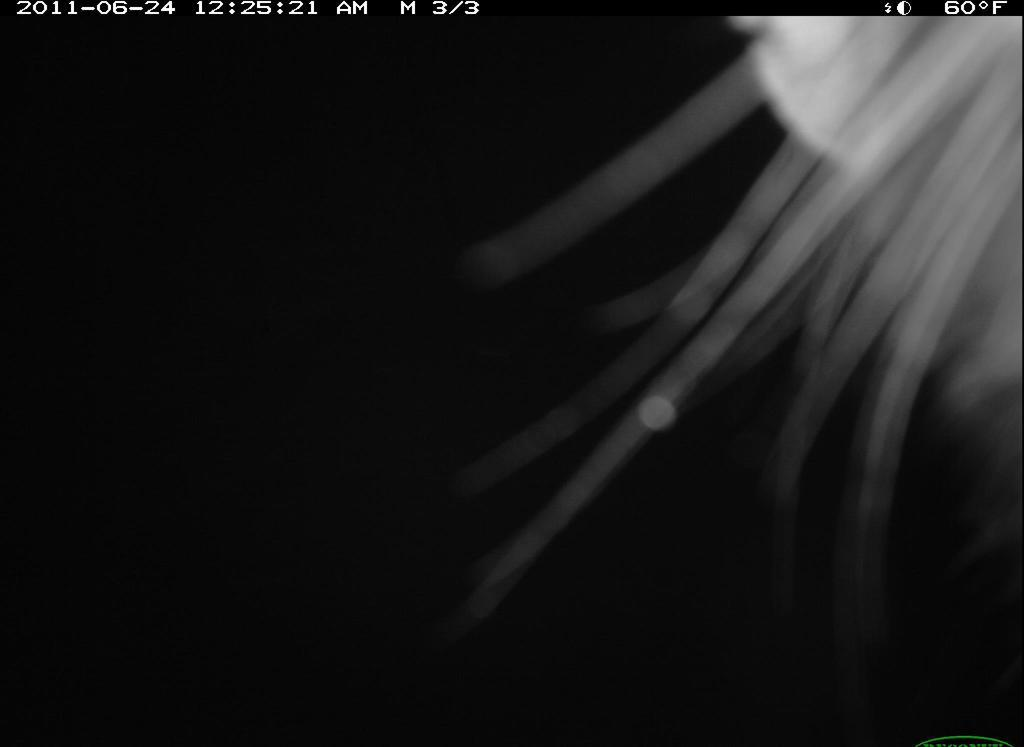raccoon: (423, 12, 1017, 657)
